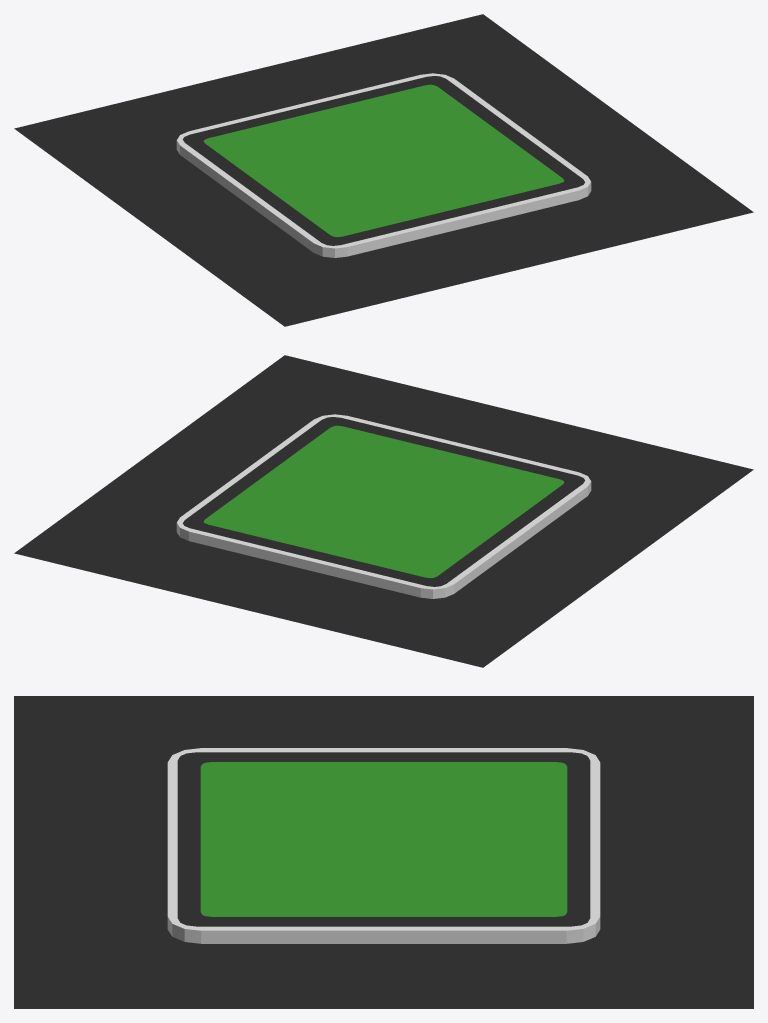
File: city.glb
3 views of the same model, one above another, from view 1: azimuth 30°, elevation 25°; view 2: azimuth 150°, elevation 25°; view 3: azimuth 270°, elevation 25° (orthographic). The views are drawn at different scales.
Parts seen in each view (by area): view 1: city; view 2: city; view 3: city.
Boxes of the visible parts, x1,y1,x2,y2 form: city: (14, 14, 753, 326); city: (14, 355, 753, 667); city: (14, 696, 753, 1008).
Bounding box in the file's own units: 51.35 × 1 × 51.35.
